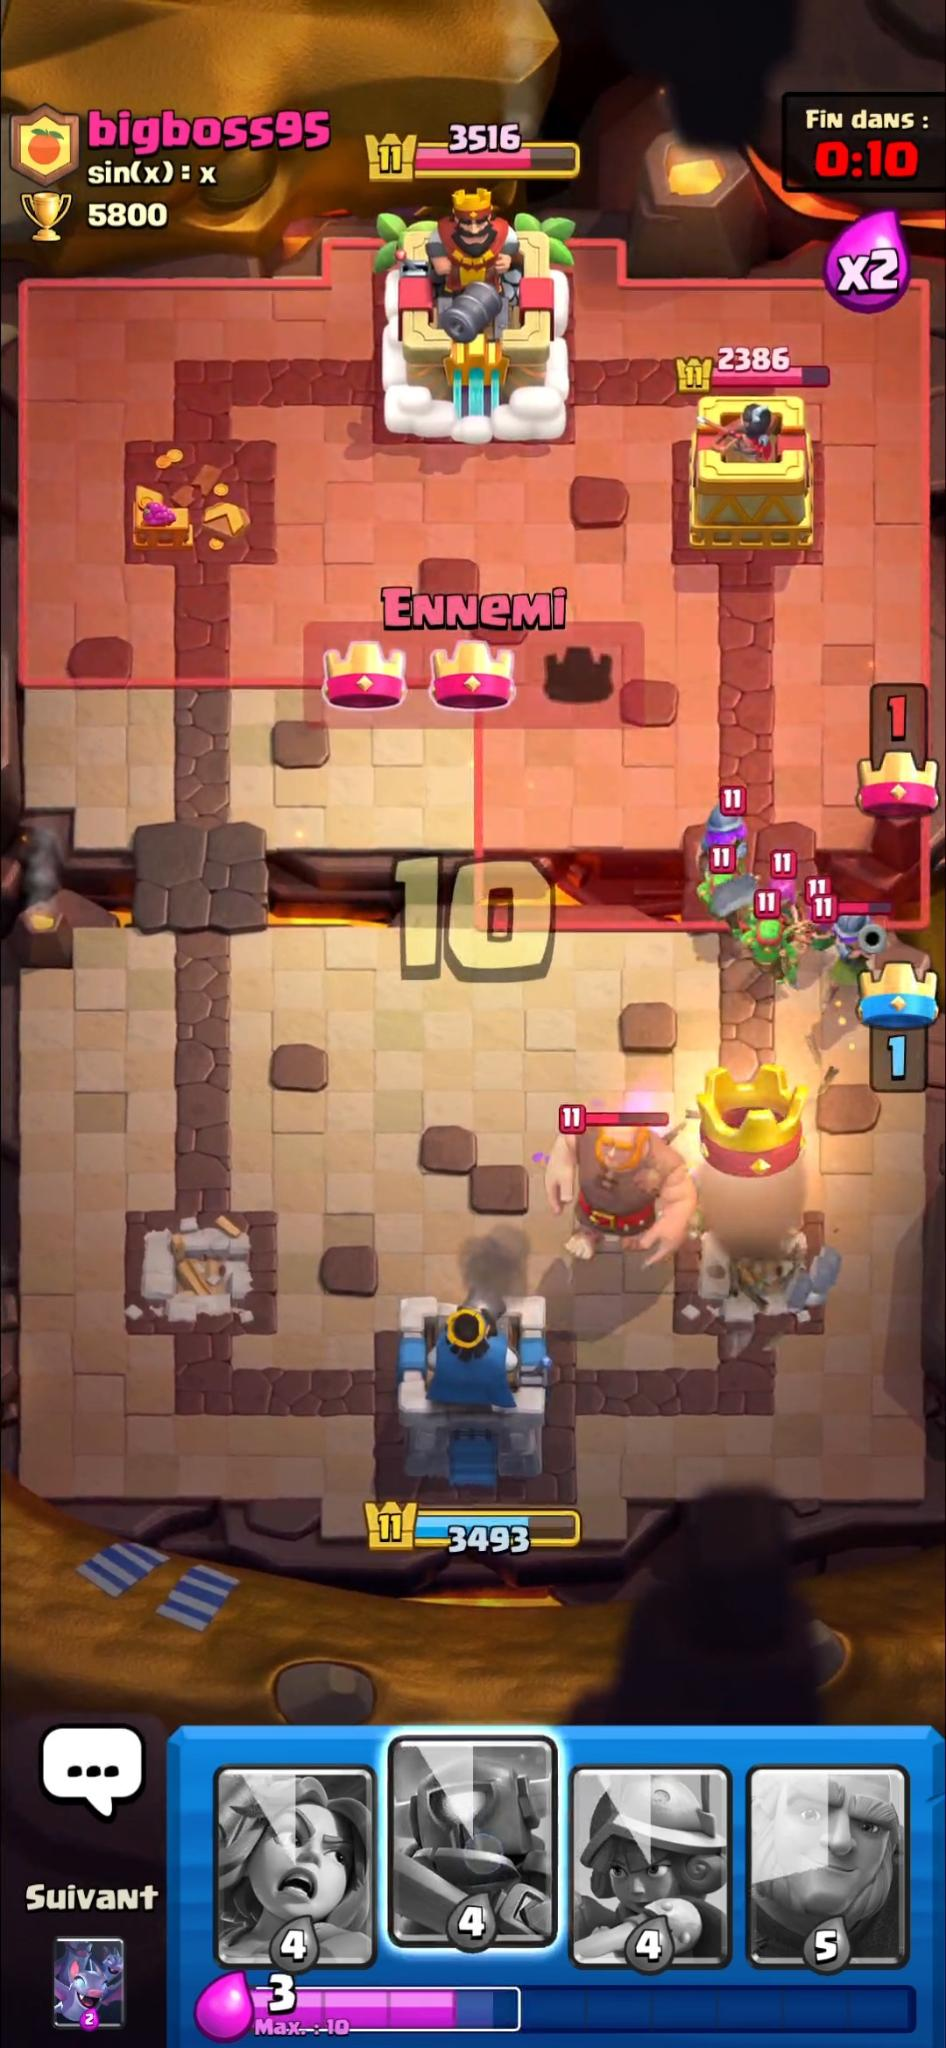archere: (768, 875, 807, 920)
geant: (547, 1121, 699, 1270)
gobelin_lances: (747, 912, 809, 981)
mousquetaire: (831, 906, 889, 973), (702, 802, 754, 874)
